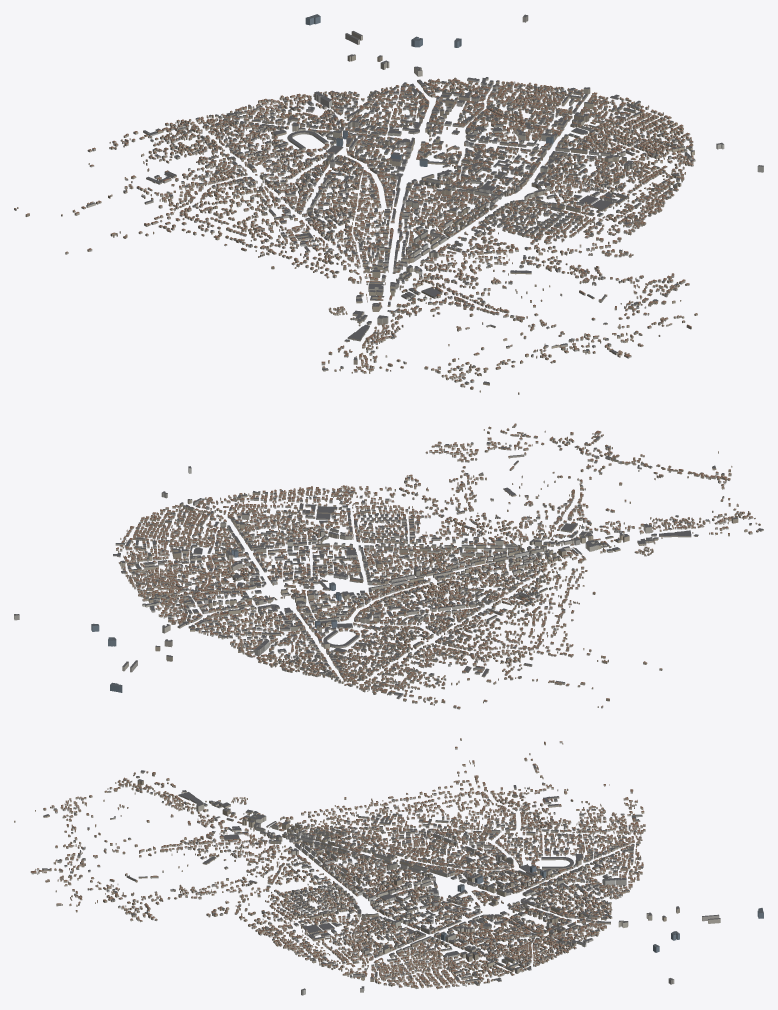
The model's file is buildings.glb.
3 views of the same model, one above another, from view 1: azimuth 30°, elevation 25°; view 2: azimuth 150°, elevation 25°; view 3: azimuth 270°, elevation 25° (orthographic). The views are drawn at different scales.
Visible parts, largest first — view 1: chunk_5_-2, chunk_1_-2, chunk_4_-4, chunk_3_-4, chunk_2_0, chunk_5_-3, chunk_4_-1, chunk_0_-1, chunk_-1_-6, chunk_3_-2, chunk_1_-5, chunk_3_-1 (+49 smaller); view 2: chunk_-1_-1, chunk_-1_0, chunk_0_-2, chunk_4_-4, chunk_3_-2, chunk_3_-4, chunk_-1_-2, chunk_3_-5, chunk_4_-3, chunk_1_-5, chunk_2_-5, chunk_0_-3 (+52 smaller); view 3: chunk_-1_0, chunk_2_0, chunk_-1_-1, chunk_5_-2, chunk_3_-5, chunk_1_-2, chunk_3_-4, chunk_3_-2, chunk_4_-4, chunk_0_-1, chunk_4_-3, chunk_1_-5 (+52 smaller).
Part boxes in pixels (box(x1,y1,x2,y2)): chunk_5_-2: box(610, 121, 685, 152); chunk_1_-2: box(419, 167, 496, 202); chunk_4_-4: box(506, 91, 582, 124); chunk_3_-4: box(459, 104, 531, 136); chunk_2_0: box(521, 199, 595, 230); chunk_5_-3: box(581, 102, 658, 133); chunk_4_-1: box(594, 155, 664, 186); chunk_0_-1: box(399, 203, 471, 233); chunk_-1_-6: box(208, 110, 282, 143); chunk_3_-2: box(514, 143, 585, 179); chunk_1_-5: box(333, 107, 403, 139); chunk_3_-1: box(542, 168, 617, 199); chunk_-1_-1: box(433, 556, 506, 587); chunk_-1_0: box(461, 538, 530, 566); chunk_0_-2: box(367, 565, 434, 594); chunk_4_-4: box(138, 557, 205, 587); chunk_3_-2: box(235, 532, 306, 560); chunk_3_-4: box(184, 568, 249, 598); chunk_-1_-2: box(413, 575, 484, 604); chunk_3_-5: box(156, 587, 223, 616); chunk_4_-3: box(165, 538, 232, 569); chunk_1_-5: box(248, 611, 315, 638); chunk_2_-5: box(206, 599, 271, 628); chunk_0_-3: box(344, 584, 409, 612); chunk_-1_0: box(287, 836, 338, 861); chunk_2_0: box(287, 899, 339, 922); chunk_-1_-1: box(337, 837, 391, 860); chunk_5_-2: box(385, 960, 436, 983); chunk_3_-5: box(529, 917, 580, 941); chunk_1_-2: box(380, 878, 437, 901); chunk_3_-4: box(482, 918, 533, 941); chunk_3_-2: box(385, 918, 435, 942); chunk_4_-4: box(481, 939, 532, 963); chunk_0_-1: box(336, 858, 386, 880); chunk_4_-3: box(433, 938, 484, 962); chunk_1_-5: box(530, 877, 581, 900).
Bounding box in the file's own units: 3131 × 110 × 3862.
